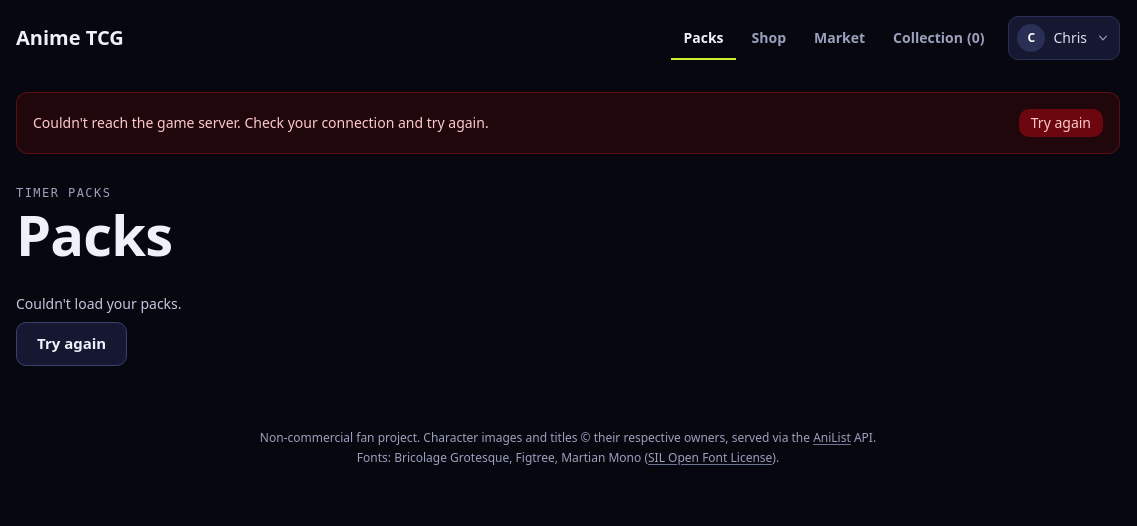
it: /packs: arriving › a first load with no answer: the failure line, the banner, and Try again asks once more
Expected: the text "Couldn't load your packs." is shown, [16,294,182,314]
Expected: the message shows "Couldn't reach the game server.", [33,113,489,132]
Click the button "Try again" below "Couldn't load your packs." at (72, 344), box [16,322,127,366]
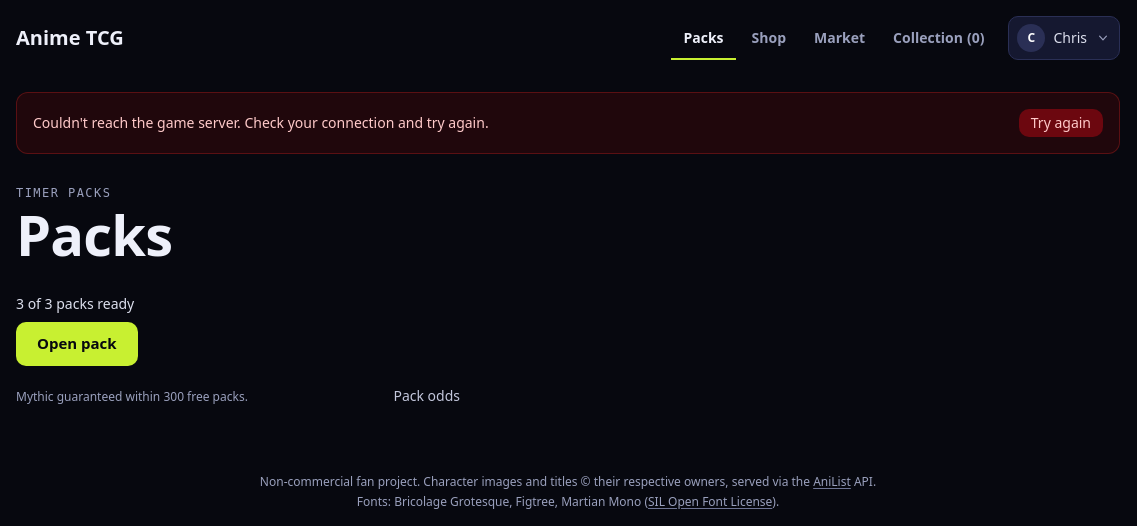
Expected: the text "3 of 3 packs ready" is shown, [16,294,134,314]
